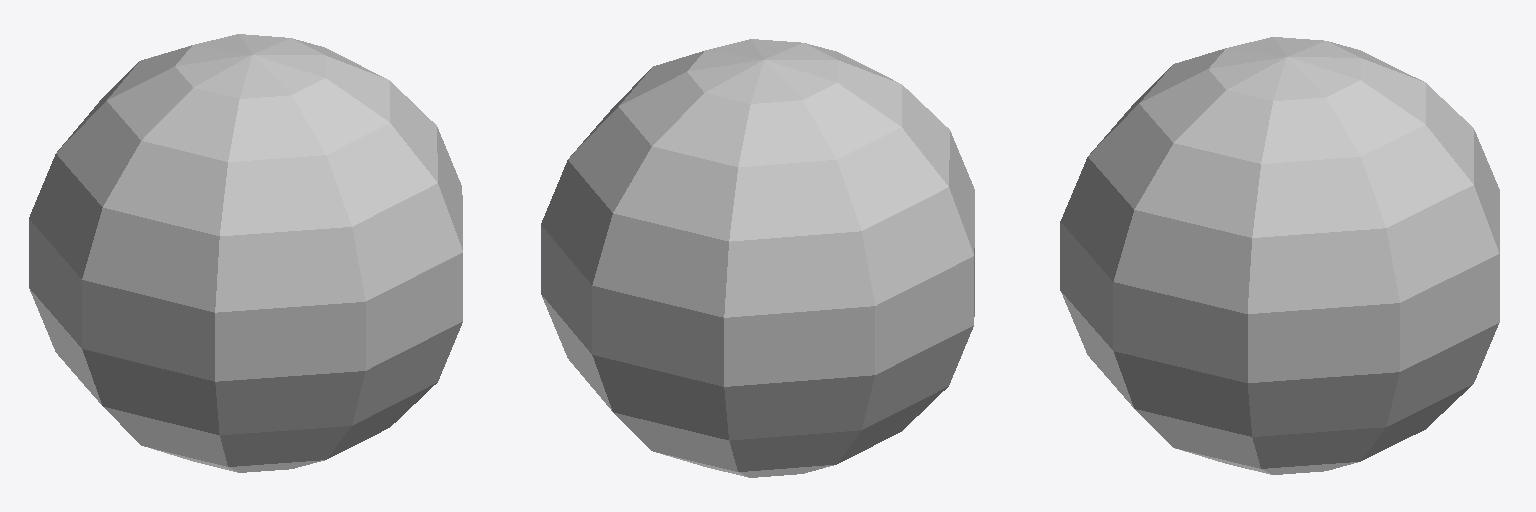
Rendered from Bullt.obj.
The picture shows the model from 3 angles: view 1: azimuth 30°, elevation 25°; view 2: azimuth 150°, elevation 25°; view 3: azimuth 270°, elevation 25°; orthographic projection.
Parts seen in each view (by area): view 1: Bullet; view 2: Bullet; view 3: Bullet.
Part boxes in pixels (bbox=[...]): Bullet: bbox=[29, 34, 462, 472]; Bullet: bbox=[541, 39, 974, 477]; Bullet: bbox=[1060, 37, 1499, 474].
Bounding box in the file's own units: 0.2 × 0.2 × 0.2.